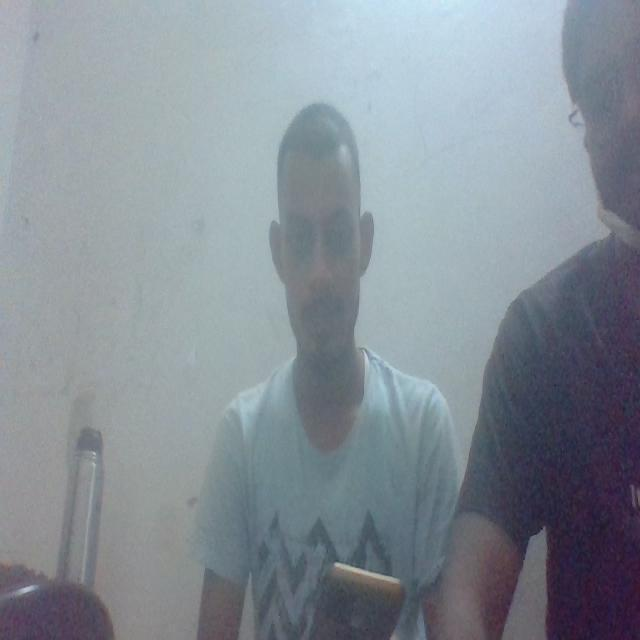Phone: (300, 558, 410, 640)
